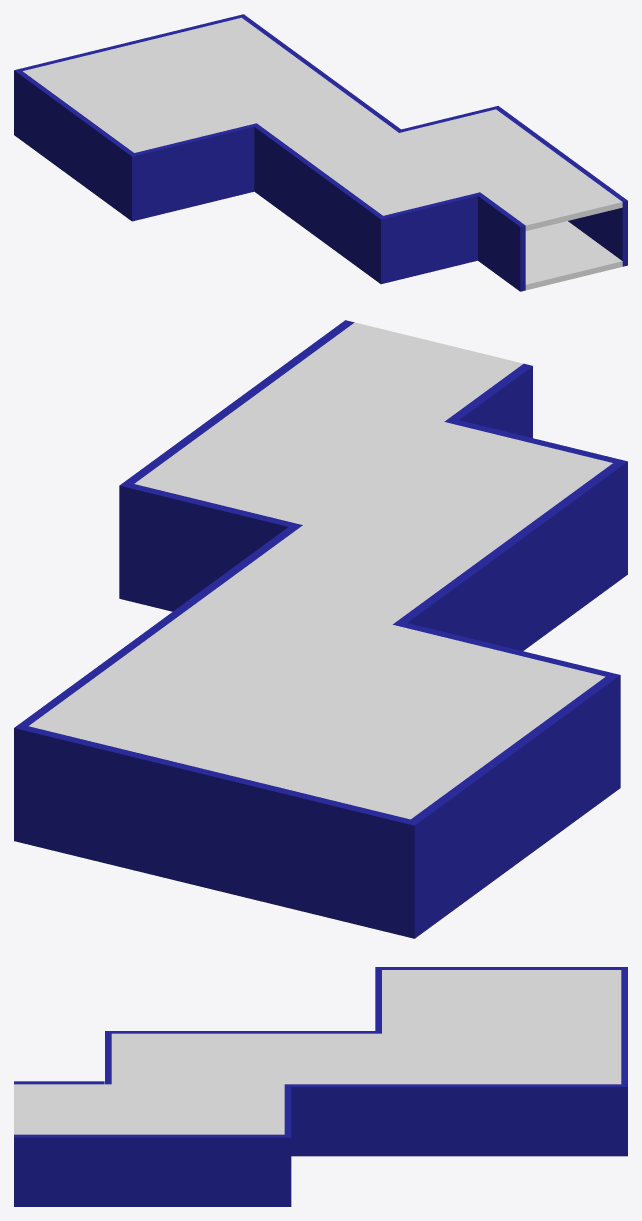
Rendered from Exhibitionhall.fbx.
3 renders of one model, top to bottom at view 1: azimuth 30°, elevation 25°; view 2: azimuth 150°, elevation 25°; view 3: azimuth 270°, elevation 25°, orthographic. The views are drawn at different scales.
Visible parts, largest first — view 1: Cube.025, Cube.011, Cube.017, Cube.022, Cube.020, Cube.018, Cube.016, Cube.026, Cube.019, Cube.027, Cube.021, Cube.023 (+1 smaller); view 2: Cube.012, Cube.011, Cube.017, Cube.022, Cube.025, Cube.018, Cube.020, Cube.024, Cube.023, Cube.027, Cube.021, Cube.026 (+1 smaller); view 3: Cube.023, Cube.021, Cube.022, Cube.011, Cube.025, Cube.017, Cube.024, Cube.012, Cube.020, Cube.018, Cube.016, Cube.026 (+1 smaller).
Boxes of the visible parts, bbox=[...] form: Cube.025: bbox=[399, 109, 622, 230]; Cube.011: bbox=[23, 17, 296, 111]; Cube.017: bbox=[78, 58, 352, 152]; Cube.022: bbox=[257, 99, 479, 215]; Cube.020: bbox=[251, 124, 382, 281]; Cube.018: bbox=[14, 69, 137, 221]; Cube.016: bbox=[134, 123, 259, 219]; Cube.026: bbox=[378, 192, 482, 284]; Cube.019: bbox=[525, 221, 622, 290]; Cube.027: bbox=[478, 194, 525, 291]; Cube.021: bbox=[496, 108, 627, 266]; Cube.023: bbox=[238, 14, 403, 132]; Cube.012: bbox=[23, 726, 410, 936]; Cube.011: bbox=[29, 655, 507, 819]; Cube.017: bbox=[126, 583, 605, 747]; Cube.022: bbox=[224, 422, 612, 624]; Cube.025: bbox=[134, 322, 523, 524]; Cube.018: bbox=[405, 672, 620, 938]; Cube.020: bbox=[393, 463, 622, 650]; Cube.024: bbox=[119, 482, 293, 611]; Cube.023: bbox=[14, 523, 302, 843]; Cube.027: bbox=[450, 363, 532, 437]; Cube.021: bbox=[125, 320, 354, 483]; Cube.026: bbox=[444, 418, 627, 577]; Cube.023: bbox=[284, 1084, 627, 1156]; Cube.021: bbox=[14, 1134, 284, 1206]; Cube.022: bbox=[111, 1033, 381, 1084]; Cube.011: bbox=[501, 970, 621, 1084]; Cube.025: bbox=[14, 1084, 284, 1134]; Cube.017: bbox=[382, 970, 501, 1084]; Cube.024: bbox=[284, 1087, 291, 1206]; Cube.012: bbox=[621, 970, 627, 1083]; Cube.020: bbox=[111, 1031, 378, 1033]; Cube.018: bbox=[375, 967, 627, 969]; Cube.016: bbox=[375, 970, 381, 1033]; Cube.026: bbox=[105, 1031, 111, 1084].
Bounding box in the file's own units: 30.36 × 5.76 × 46.2.
